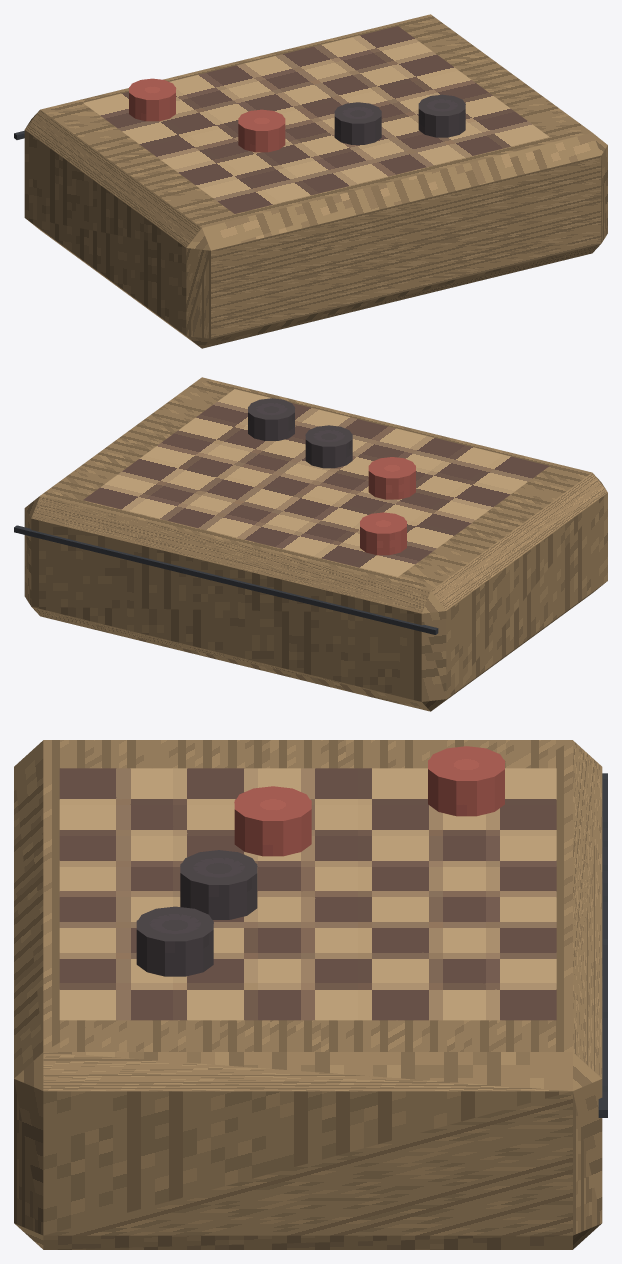
Rendered from small_checkers.glb.
The picture shows the model from 3 angles, top to bottom: view 1: azimuth 30°, elevation 25°; view 2: azimuth 150°, elevation 25°; view 3: azimuth 270°, elevation 25°; orthographic projection. The views are drawn at different scales.
Visible parts, largest first — view 1: block_game box, block_checkerboard, block_round checkers token (×4); view 2: block_game box, block_checkerboard, block_round checkers token (×4), block_lid seam; view 3: block_game box, block_checkerboard, block_round checkers token (×4), block_lid seam.
Part boxes in pixels (x1=…): block_game box: x1=24, y1=14, x2=607, y2=348; block_checkerboard: x1=83, y1=26, x2=549, y2=213; block_round checkers token (×4): x1=129, y1=81, x2=465, y2=152; block_game box: x1=24, y1=377, x2=607, y2=711; block_checkerboard: x1=83, y1=389, x2=549, y2=576; block_round checkers token (×4): x1=248, y1=401, x2=415, y2=555; block_lid seam: x1=14, y1=525, x2=438, y2=634; block_game box: x1=14, y1=740, x2=602, y2=1249; block_checkerboard: x1=59, y1=768, x2=556, y2=1020; block_round checkers token (×4): x1=136, y1=751, x2=504, y2=976; block_lid seam: x1=598, y1=773, x2=607, y2=1117.
Bounding box in the file's own units: 0.1708 × 0.0565 × 0.1273.
Materials: 1 (1 with a texture image).
